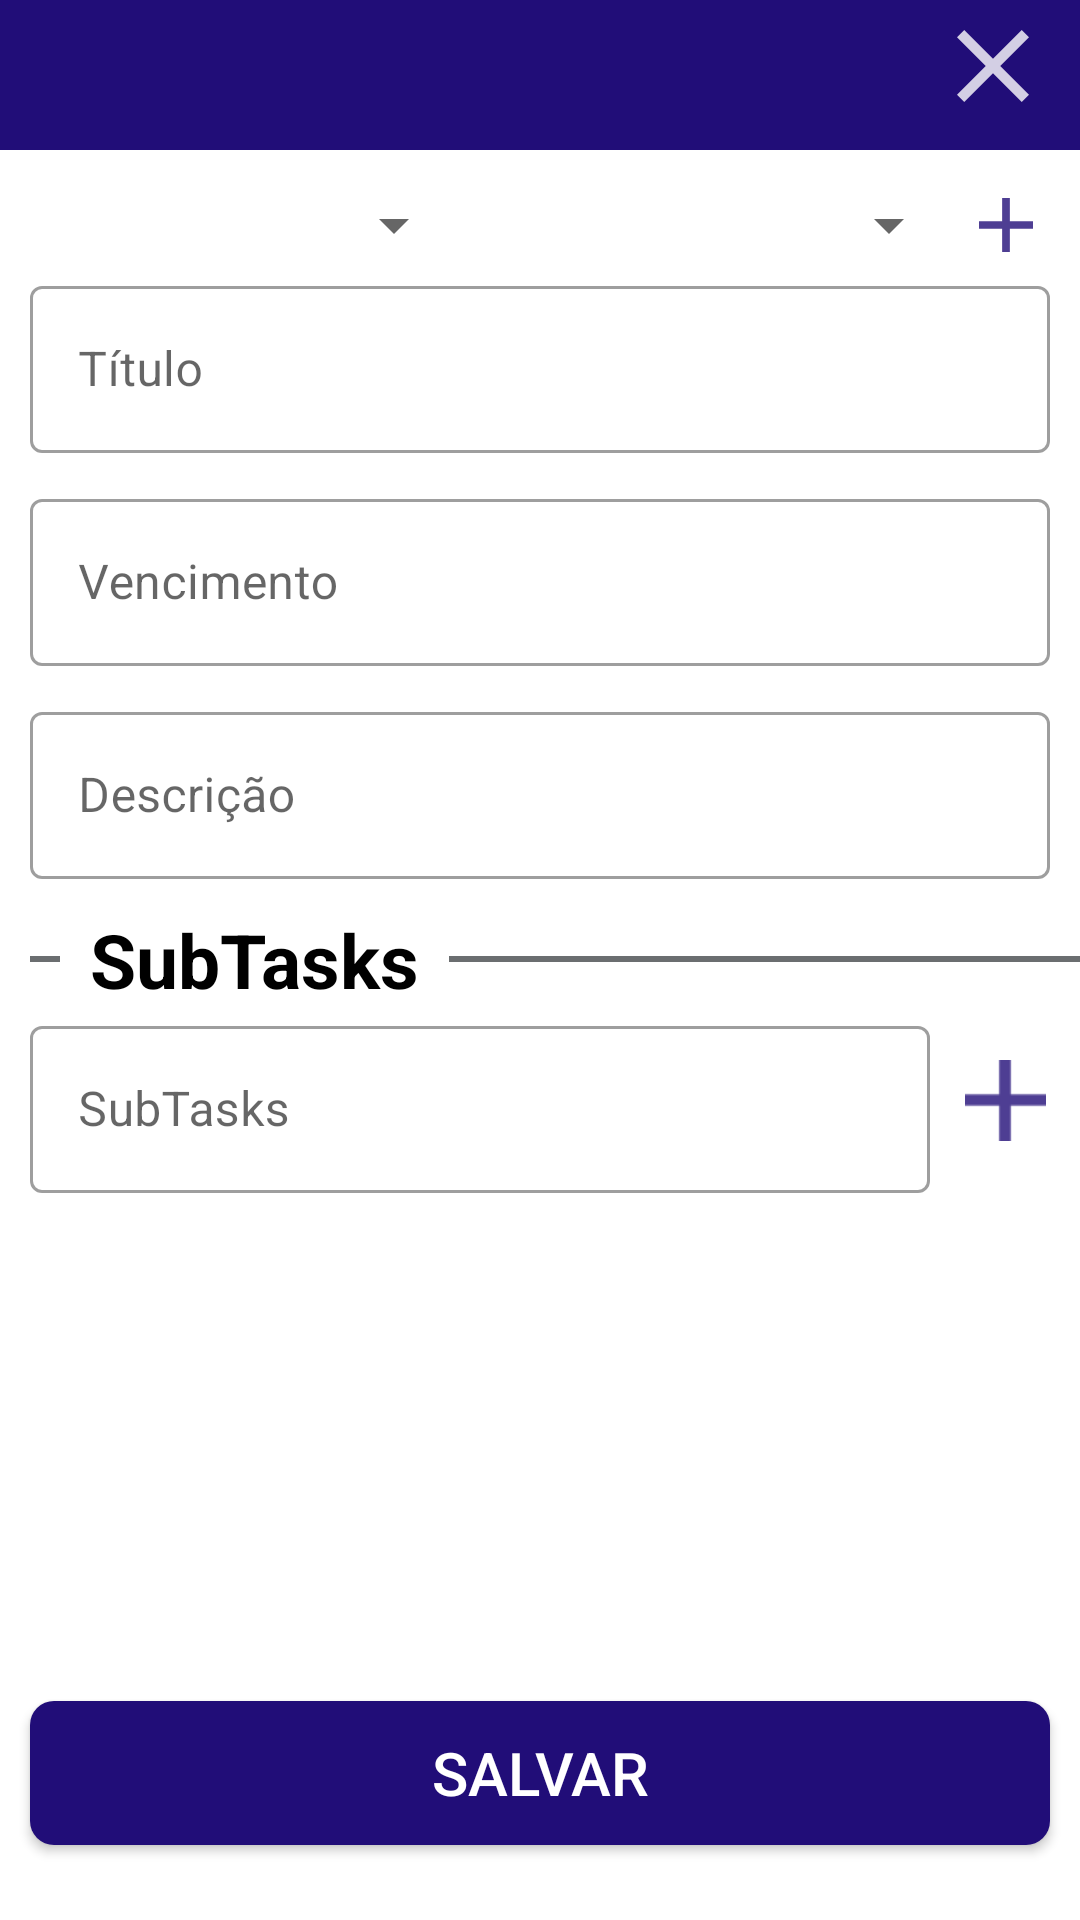

Named icons in this screenshot (1080px×1920px) and their centers, (x,y):
Adicionar Categoria: (1006,225)
Fechar: (993,66)
